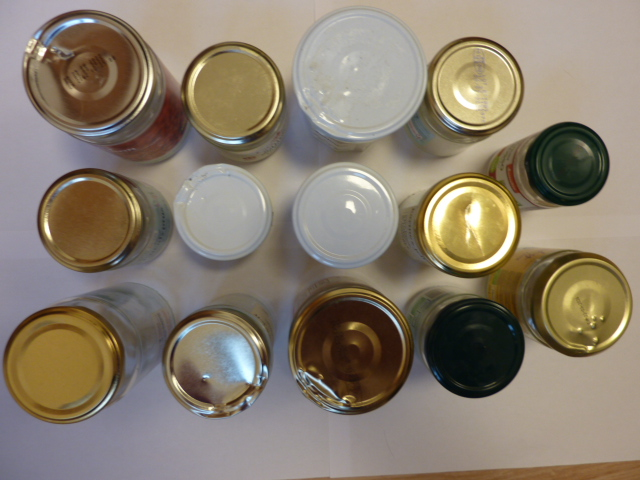damaged: (174, 164, 270, 262)
intact: (527, 123, 610, 207)
